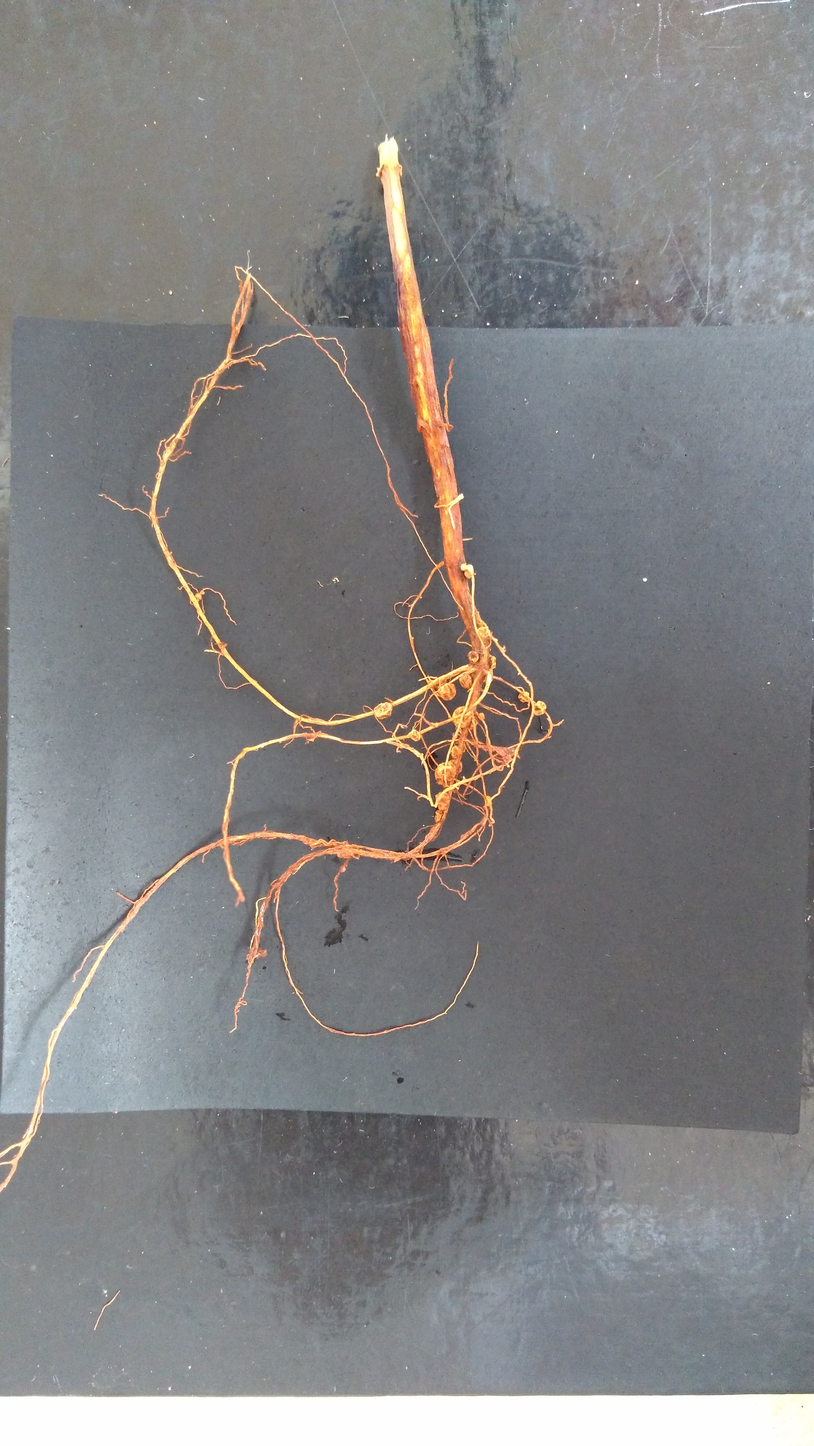nodule: (433, 760, 457, 783), (451, 704, 473, 729), (372, 701, 394, 720), (437, 682, 458, 701), (434, 790, 451, 811), (457, 673, 474, 690), (459, 562, 475, 580), (533, 699, 547, 717), (476, 625, 491, 640), (466, 650, 480, 664), (449, 745, 463, 759), (408, 729, 422, 742), (432, 809, 444, 824), (517, 691, 530, 704), (489, 655, 497, 670), (485, 795, 492, 808), (478, 711, 486, 720), (339, 864, 347, 873)
